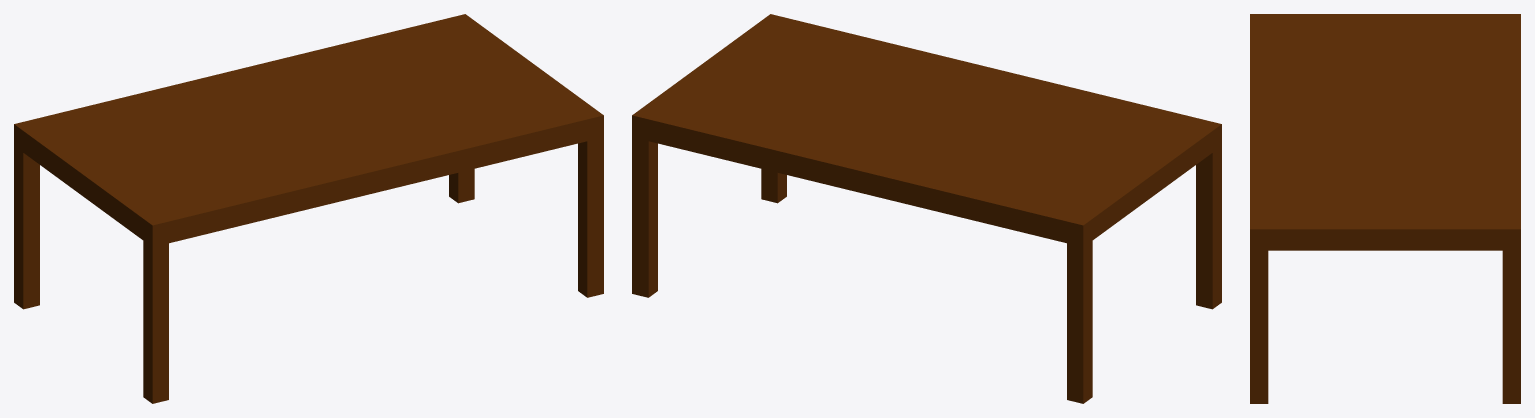
3 views of the same model, side by side, from view 1: azimuth 30°, elevation 25°; view 2: azimuth 150°, elevation 25°; view 3: azimuth 270°, elevation 25° (orthographic). The views are drawn at different scales.
Parts seen in each view (by area): view 1: Cube; view 2: Cube; view 3: Cube.
Part boxes in pixels (<box>): Cube: <box>14,14,603,403</box>; Cube: <box>632,14,1221,403</box>; Cube: <box>1250,14,1520,403</box>.
Bounding box in the file's own units: 10.03 × 3.79 × 5.33.
